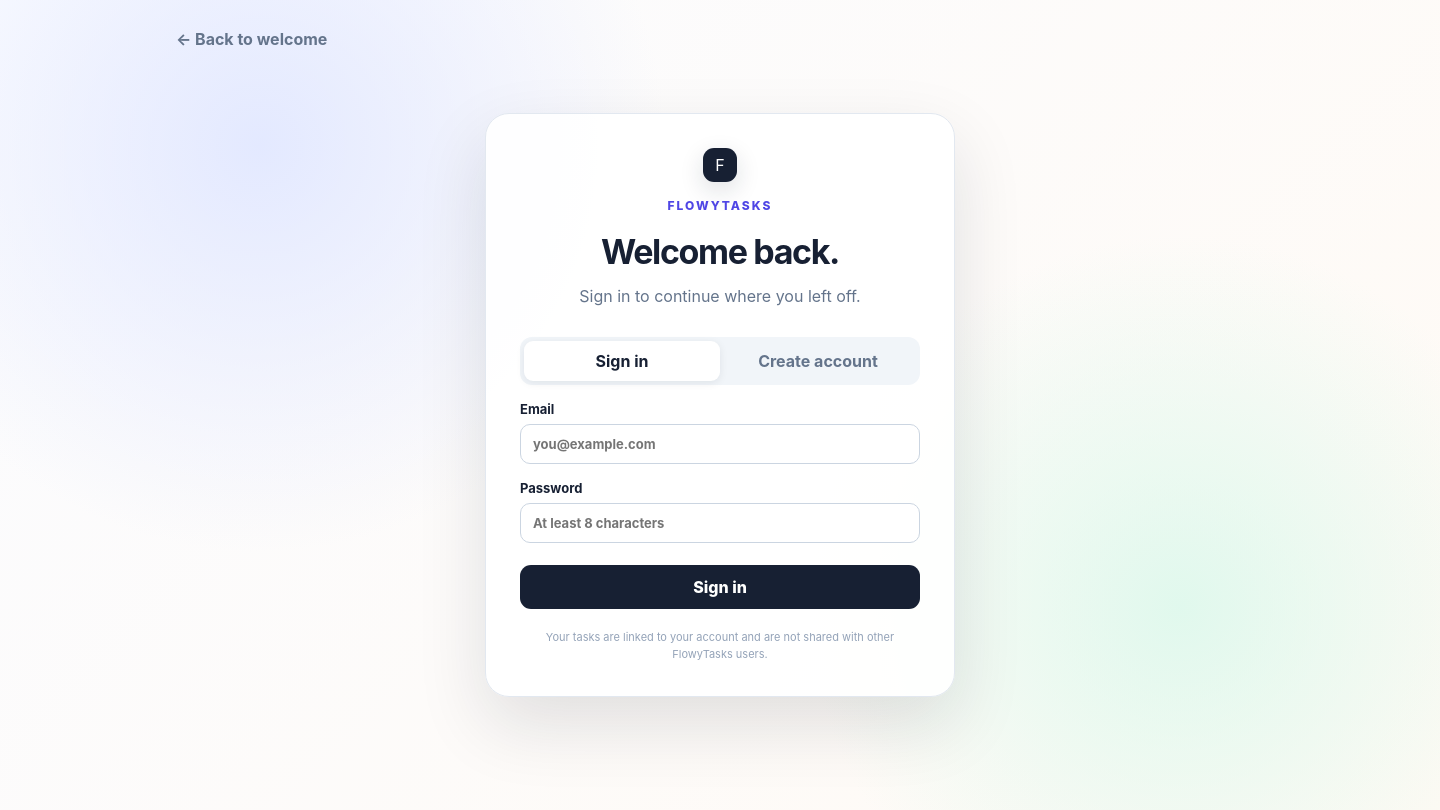
Test: AuthPage › can switch to account creation
The width and height of the screenshot is (1440, 810).
What coordinates should you click on to do the following:
click the button "Create account"
I would click on:
 (818, 361)
Its box is [720,341,916,381].
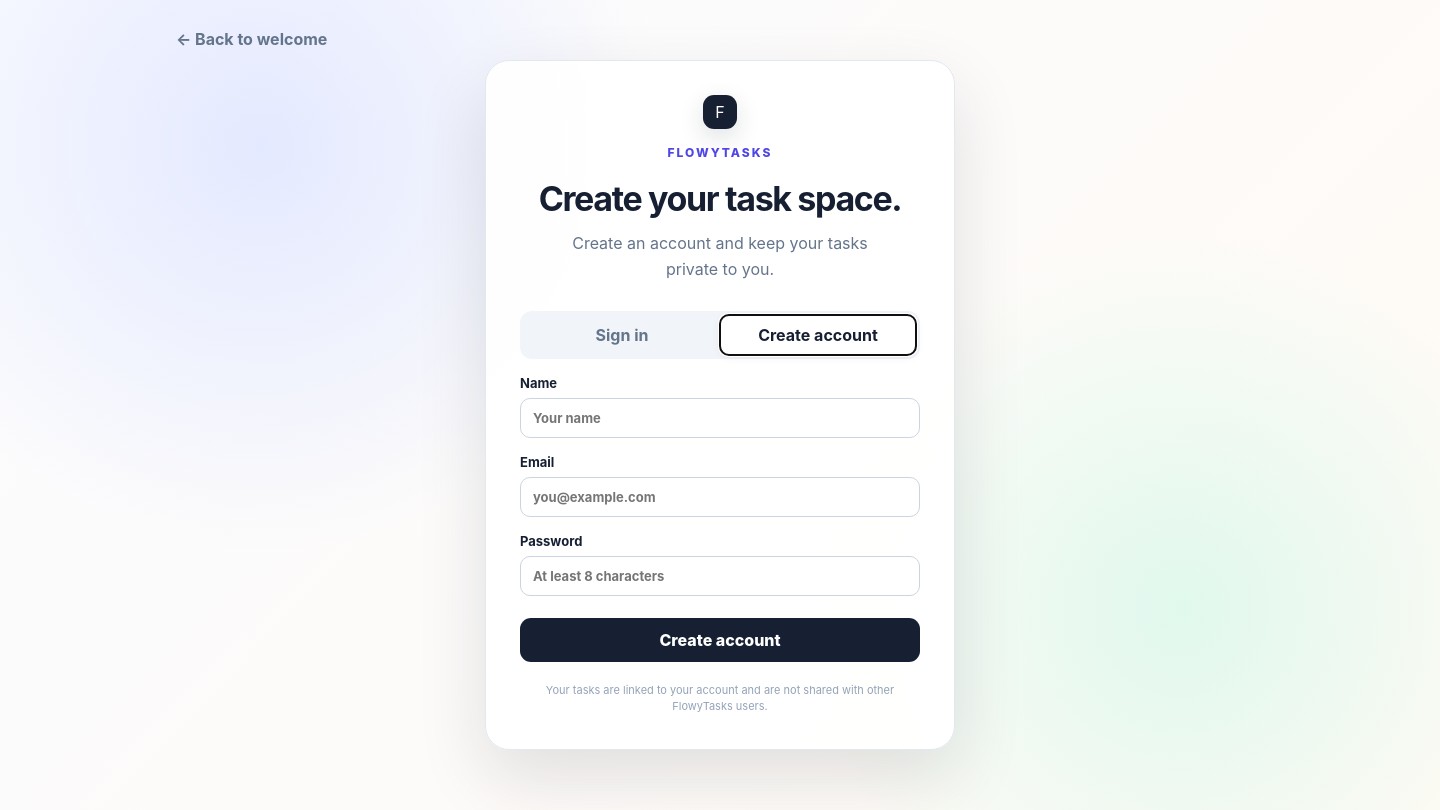
Result: the field labelled "Name" is shown at [520,398,920,438]
Result: the heading "Create your task space." is shown at [520,178,920,219]
